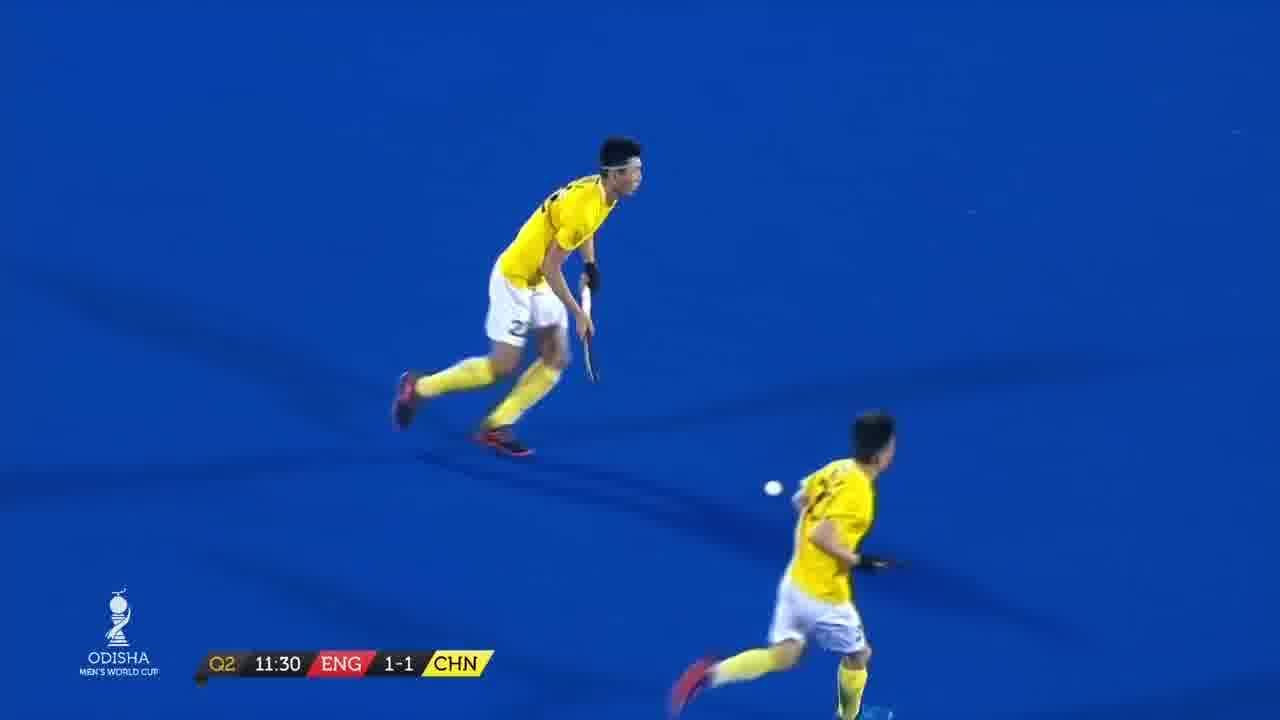ball: (756, 472, 790, 502)
